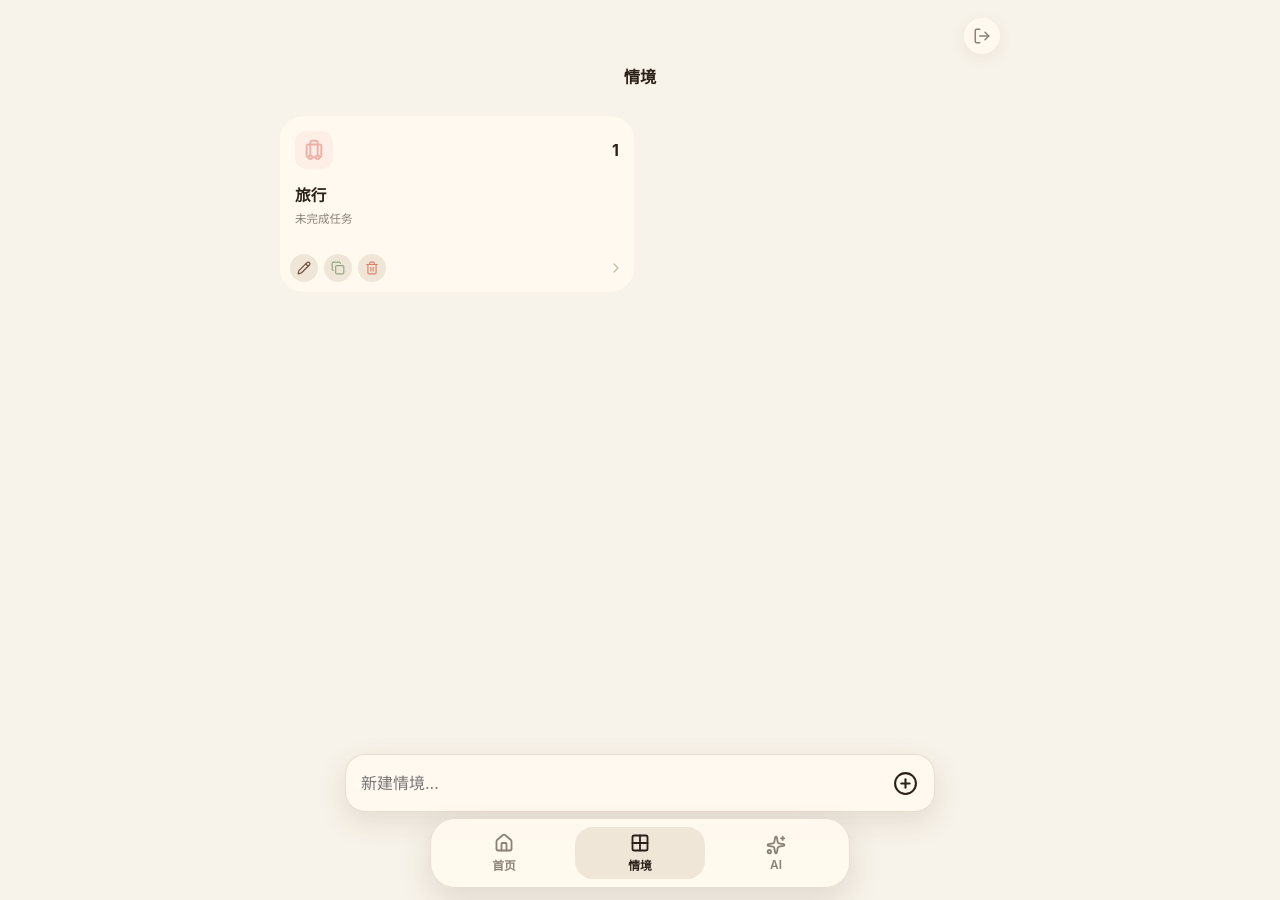
Scenario: contexts interface › explains that deleting a context keeps tasks and requires confirmation
This screenshot has width=1280, height=900.
Click the button named "删除 旅行": (372,268) [358,254,386,282]
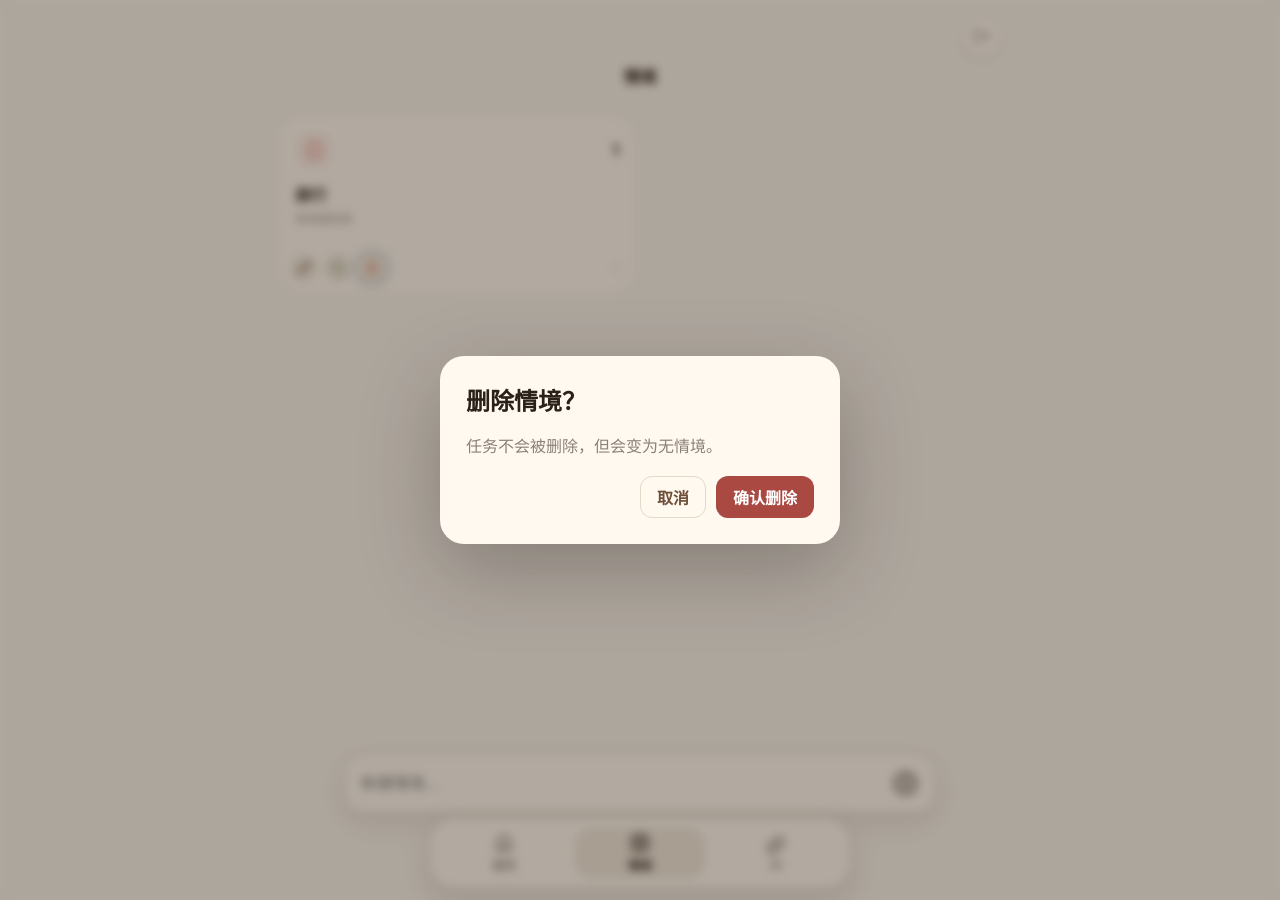
Expected: the dialog "删除情境？" shows "任务不会被删除，但会变为无情境", [466,436,722,456]
Click the button "确认删除": (765,497) [716,476,814,518]
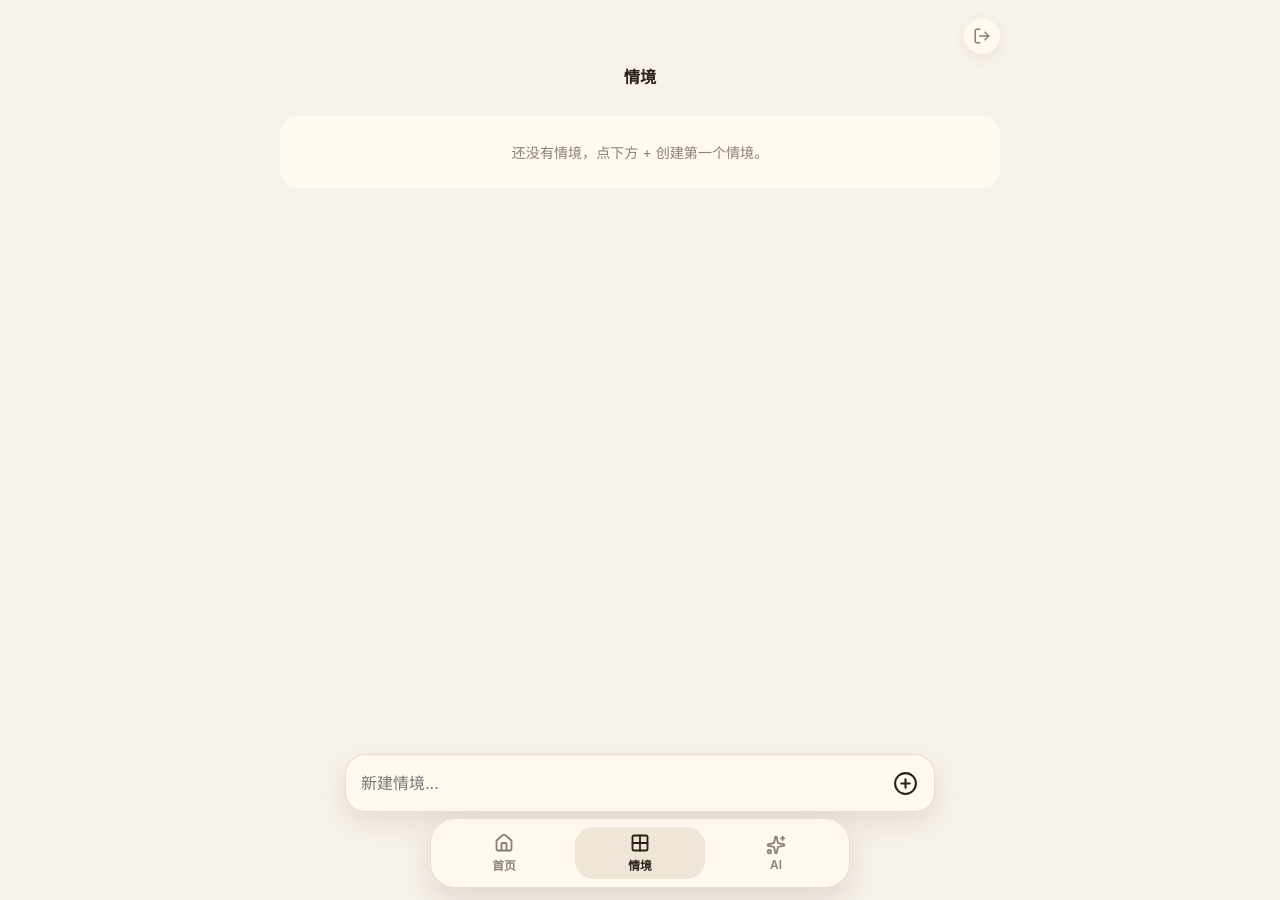
Expected: the link "旅行" is gone
